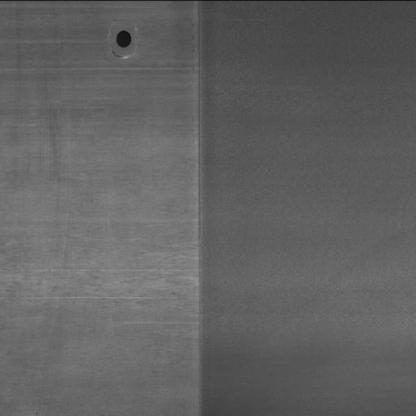punching_hole: (113, 28, 135, 52)
silk_spot: (9, 239, 194, 308)
welding_line: (186, 1, 210, 416)
